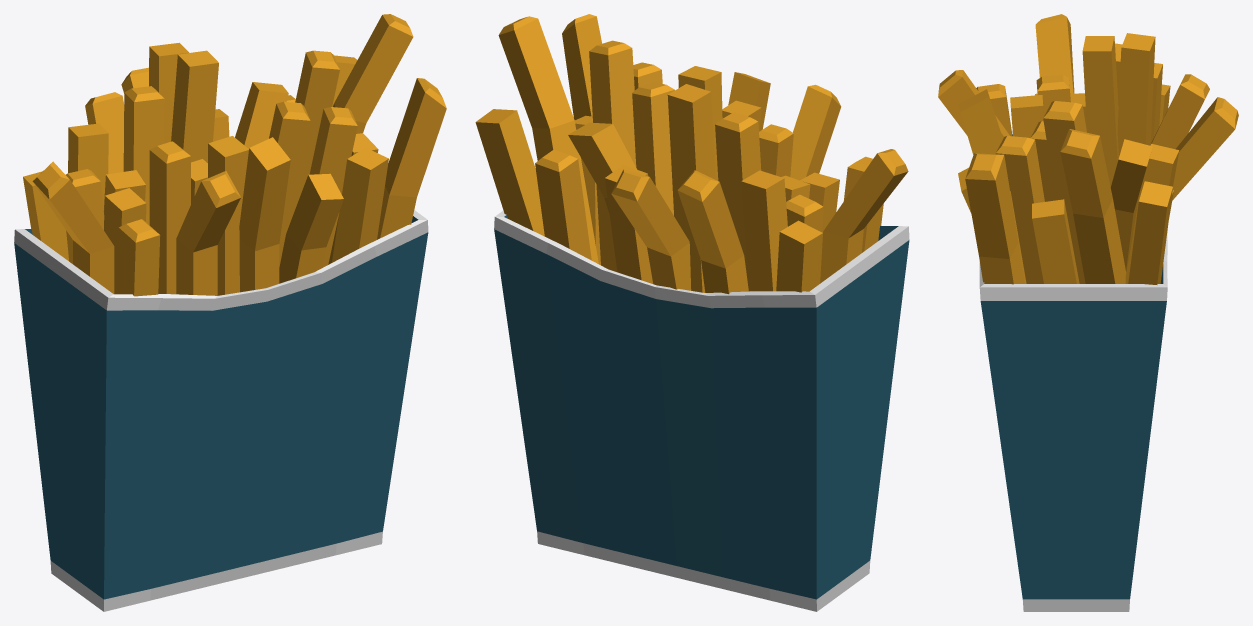
Rendered from fries.fbx.
3 renders of one model, left to right at view 1: azimuth 30°, elevation 25°; view 2: azimuth 150°, elevation 25°; view 3: azimuth 270°, elevation 25°, orthographic.
Visible parts, largest first — view 1: case, fries; view 2: case, fries; view 3: fries, case.
Part boxes in pixels (x1,y1,x2,y2): case: (14, 210, 428, 611); fries: (23, 14, 446, 296); case: (494, 210, 909, 611); fries: (475, 14, 908, 294); fries: (938, 14, 1238, 284); case: (979, 130, 1167, 611).
Bounding box in the file's own units: 30.61 × 37.78 × 20.63.
2 materials, 1 textured.
